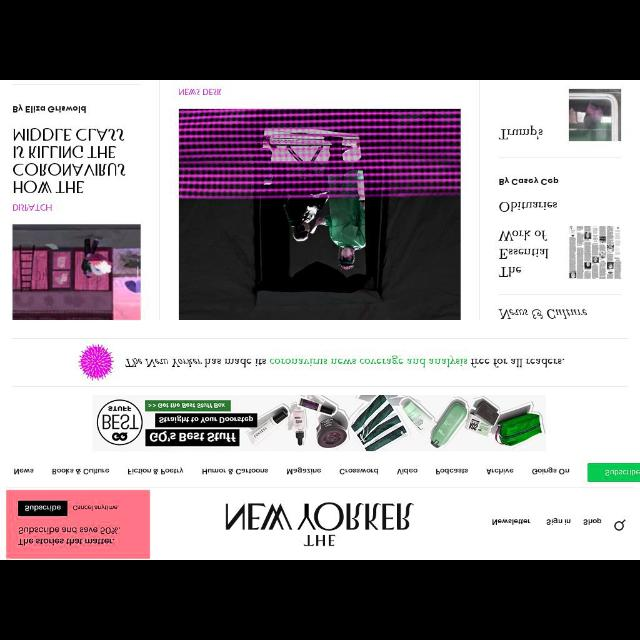icon: (612, 516, 630, 532)
iframe: (94, 396, 548, 456), (6, 488, 152, 558)
image: (178, 109, 458, 319), (12, 226, 142, 320), (222, 498, 418, 552), (568, 90, 622, 142), (572, 226, 622, 278), (82, 343, 115, 385)
multitab: (1, 460, 581, 488)
text: (14, 105, 128, 212), (124, 353, 566, 371), (498, 173, 562, 277), (498, 309, 594, 321), (498, 124, 546, 146), (198, 466, 268, 478), (50, 468, 110, 478), (127, 466, 187, 476), (530, 466, 572, 478), (281, 467, 321, 479), (434, 467, 470, 479), (394, 465, 422, 479), (603, 467, 639, 477), (485, 467, 517, 478), (338, 467, 380, 475), (492, 518, 532, 526), (548, 518, 574, 528), (12, 468, 36, 478), (583, 518, 601, 528)
textbutton: (588, 464, 640, 484), (490, 516, 534, 528), (544, 513, 574, 527), (582, 516, 604, 528)
toolbar: (1, 489, 639, 558)
